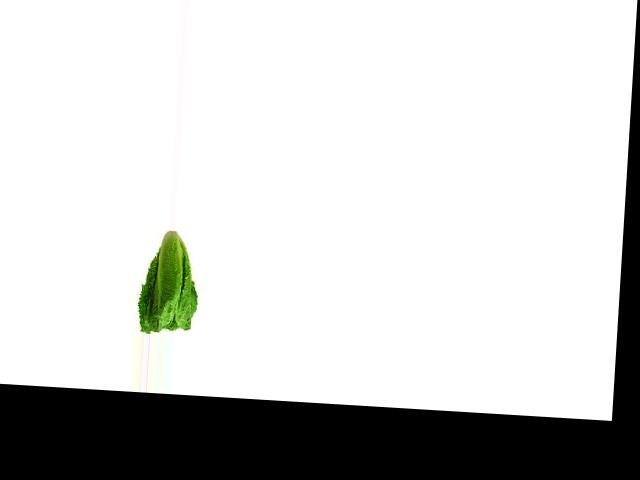lettuce: (133, 229, 209, 336)
